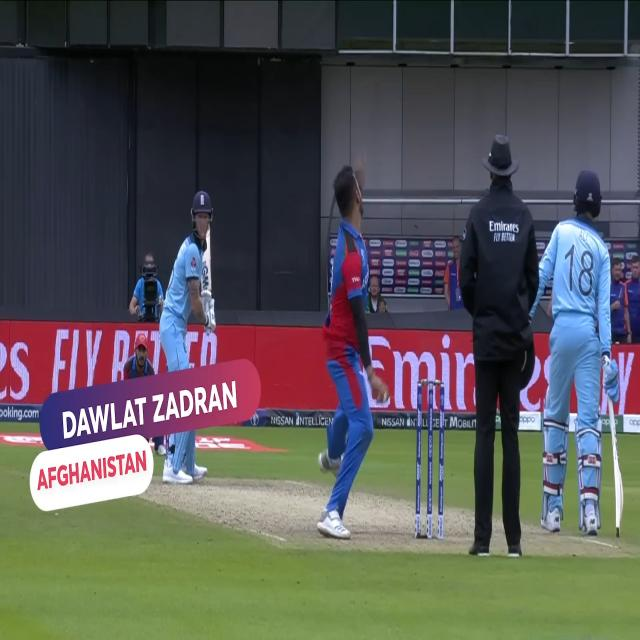ball: (377, 379, 391, 406)
